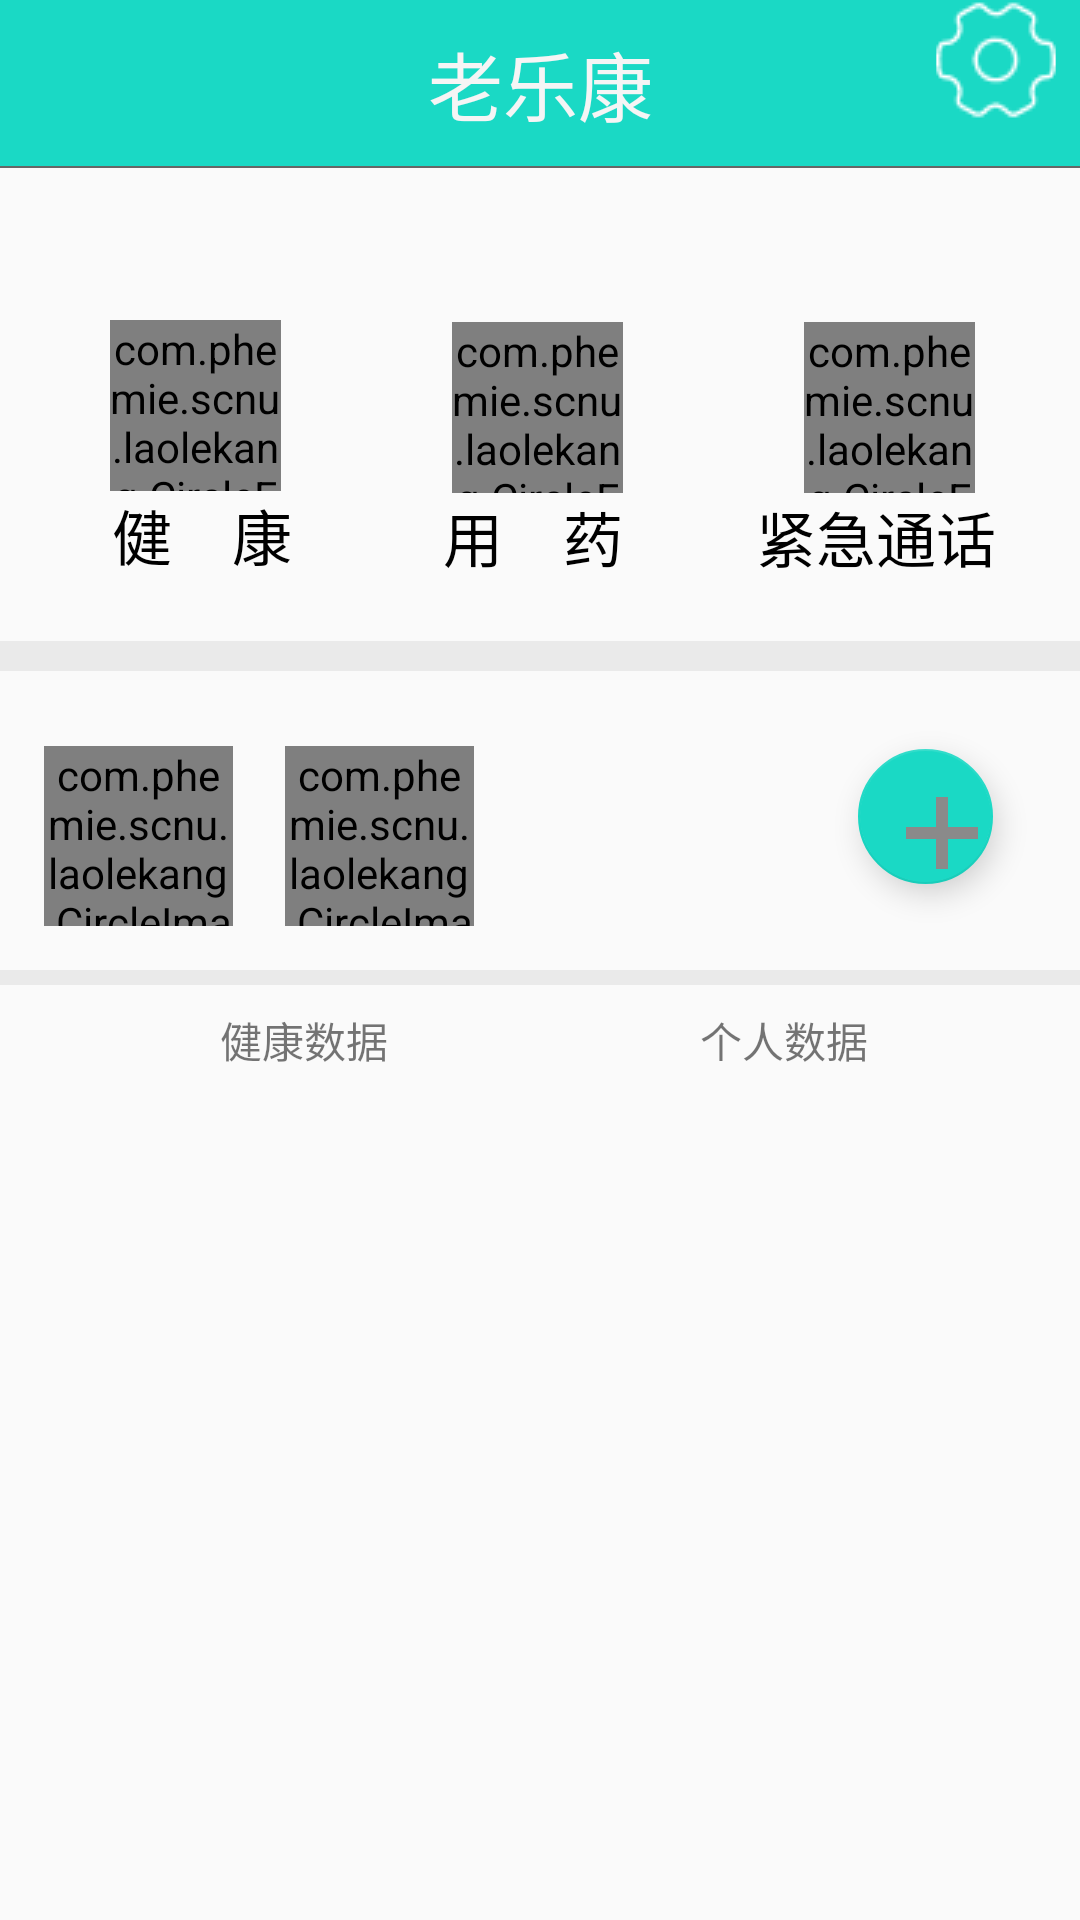

Icons on this 1080w x 1920h Android screen, each with its box as box=[x1, y1, x2, y2]:
float add: box=[858, 749, 993, 884]
setting: box=[936, 2, 1056, 118]
